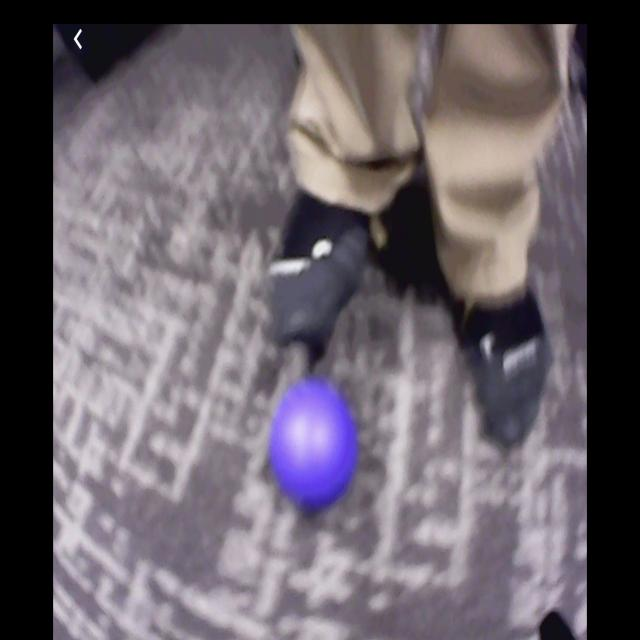ball: (273, 380, 355, 506)
